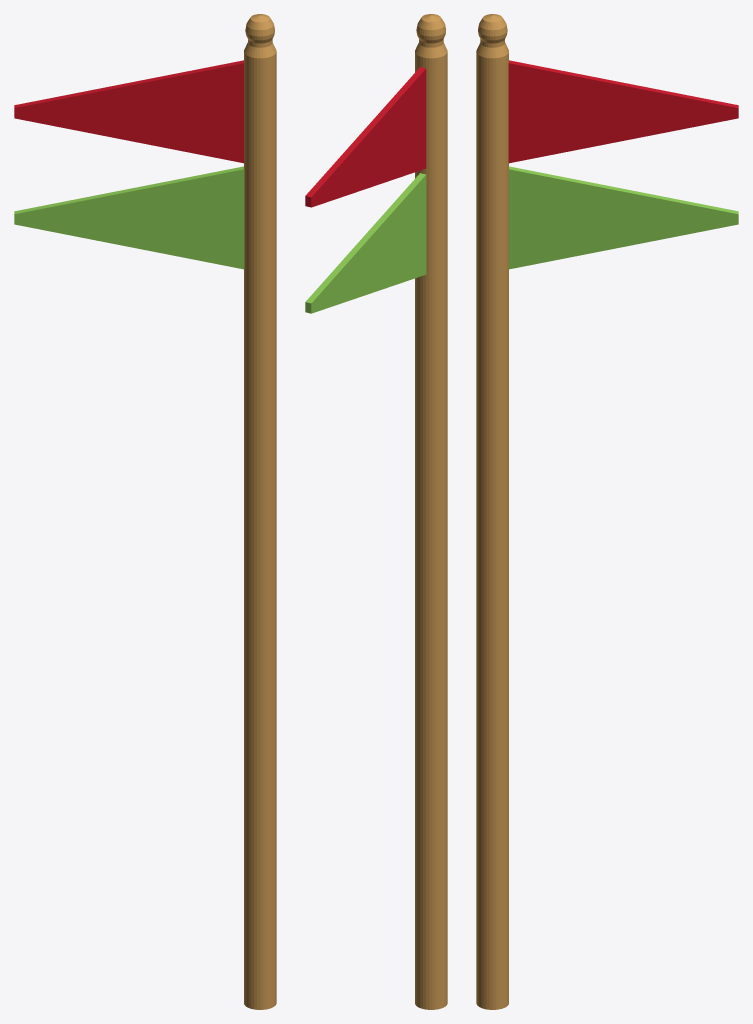
Rendered from Flag001.fbx.
The picture shows the model from 3 angles, left to right: view 1: azimuth 90°, elevation 25°; view 2: azimuth 150°, elevation 25°; view 3: azimuth 270°, elevation 25°; orthographic projection.
Parts seen in each view (by area): view 1: Cylinder, Cube.001, Cube; view 2: Cylinder, Cube.001, Cube; view 3: Cylinder, Cube.001, Cube.
Part boxes in pixels (x1,y1,x2,y2): Cylinder: (244, 14, 276, 1009); Cube.001: (14, 166, 244, 269); Cube: (14, 60, 244, 163); Cylinder: (415, 14, 447, 1009); Cube.001: (305, 173, 426, 313); Cube: (305, 67, 426, 207); Cylinder: (476, 14, 508, 1009); Cube.001: (508, 166, 738, 269); Cube: (508, 60, 738, 163).
Size of the model in its own units: 28 by 931 by 224.
